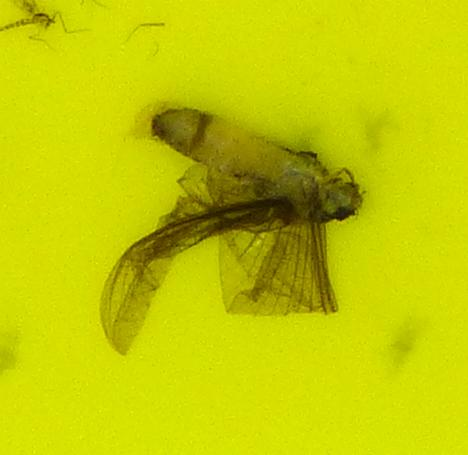Ephemeroptera: (100, 100, 368, 355)
